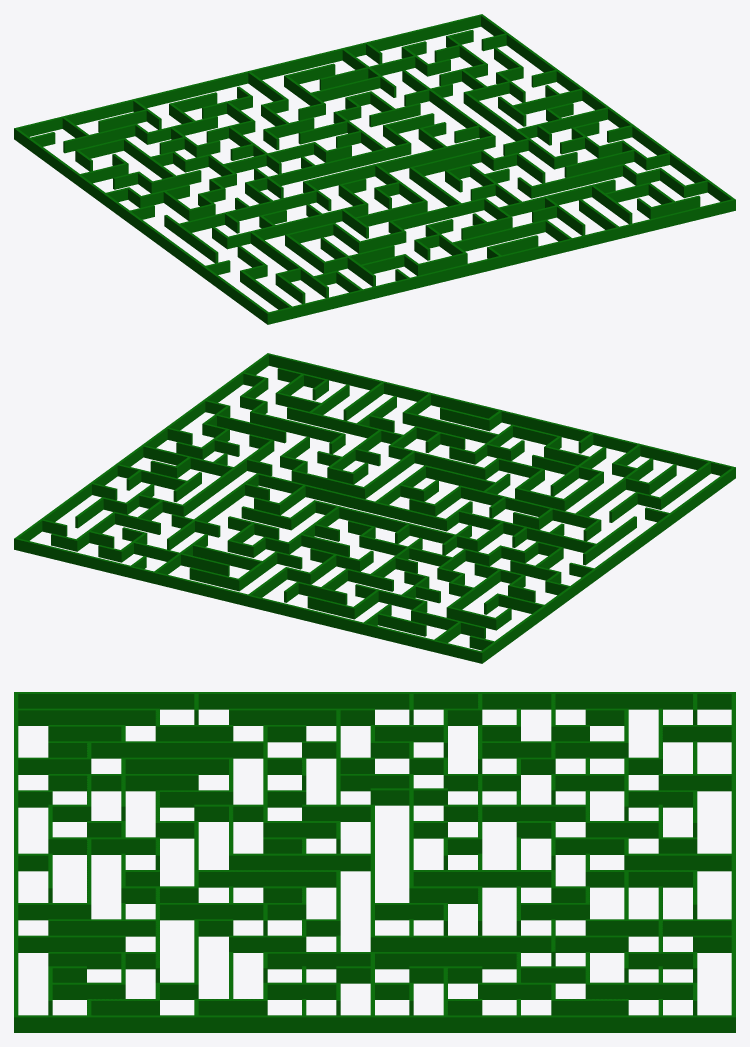
File: mazeModel.glb
3 views of the same model, one above another, from view 1: azimuth 30°, elevation 25°; view 2: azimuth 150°, elevation 25°; view 3: azimuth 270°, elevation 25° (orthographic). The views are drawn at different scales.
Parts seen in each view (by area): view 1: exported_maze_labiryntu; view 2: exported_maze_labiryntu; view 3: exported_maze_labiryntu.
Boxes of the visible parts, bbox=[...] form: exported_maze_labiryntu: bbox=[14, 14, 735, 324]; exported_maze_labiryntu: bbox=[14, 353, 735, 663]; exported_maze_labiryntu: bbox=[14, 692, 735, 1032].
Size of the model in its own units: 179 by 4 by 168.
1 material, 1 textured.
